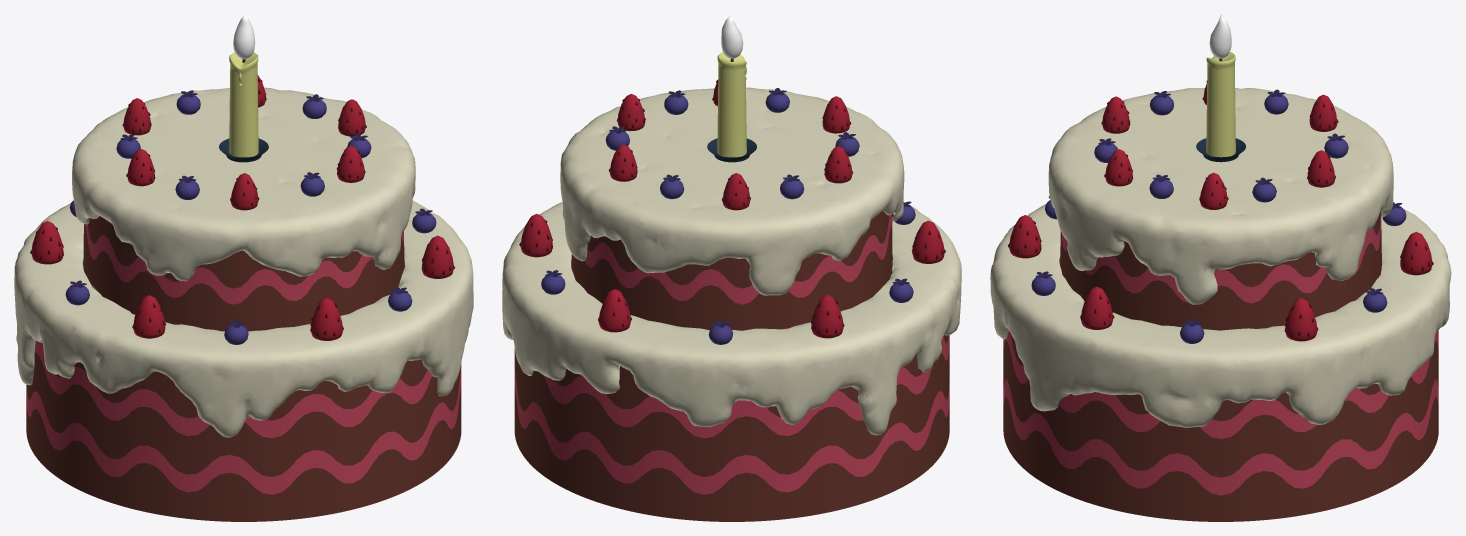
The model's file is cake.glb.
The picture shows the model from 3 angles, left to right: view 1: azimuth 30°, elevation 25°; view 2: azimuth 150°, elevation 25°; view 3: azimuth 270°, elevation 25°; orthographic projection.
Parts seen in each view (by area): view 1: Birthday Cake_0, candle; view 2: Birthday Cake_0, candle; view 3: Birthday Cake_0, candle.
Boxes of the visible parts, <box> form: Birthday Cake_0: <box>14,52,473,521</box>; candle: <box>233,14,255,59</box>; Birthday Cake_0: <box>502,52,961,521</box>; candle: <box>721,14,743,58</box>; Birthday Cake_0: <box>990,51,1451,521</box>; candle: <box>1209,14,1231,58</box>.
Bounding box in the file's own units: 0.3079 × 0.3065 × 0.3077.
